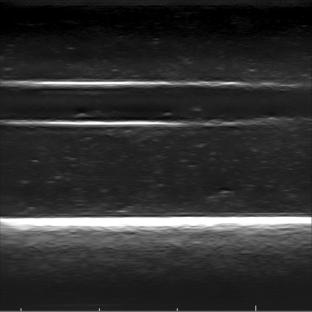vessel: (0, 79, 312, 130)
